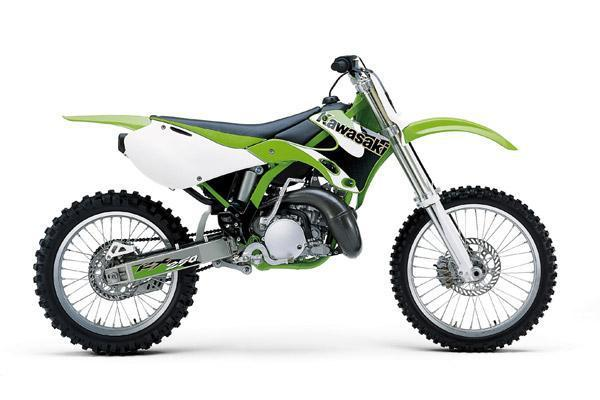motorcycle: (33, 44, 570, 377)
